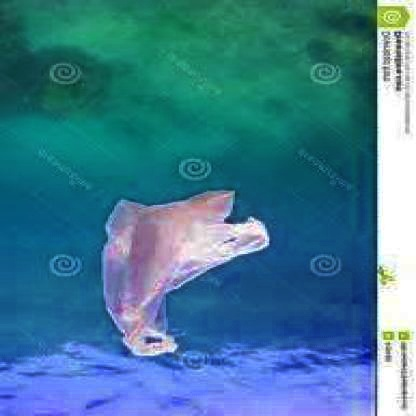pbag: (99, 187, 272, 359)
